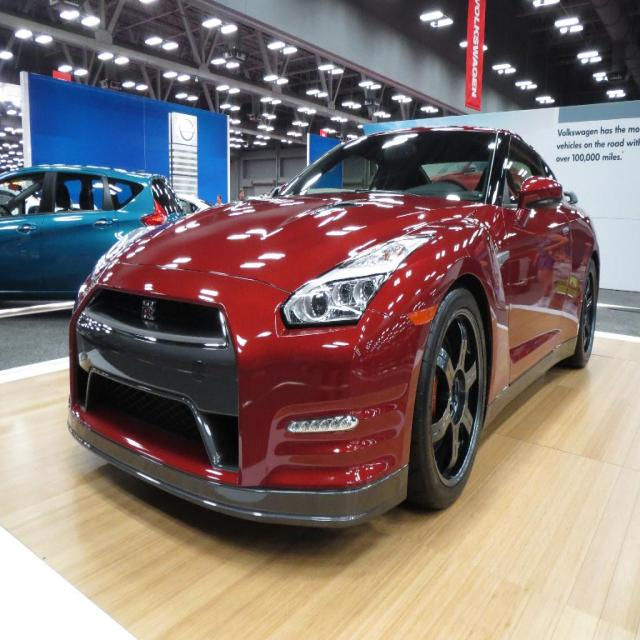car: (66, 123, 600, 529)
